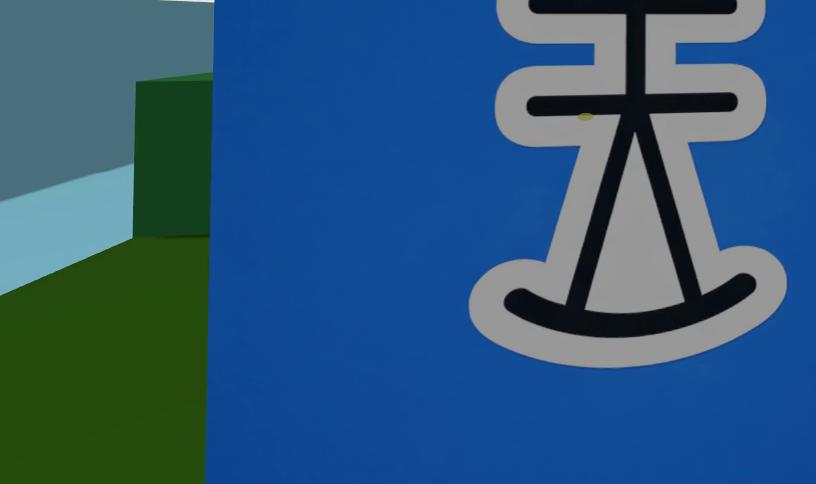KFS_REAL: (207, 0, 816, 483), (470, 0, 784, 367)
